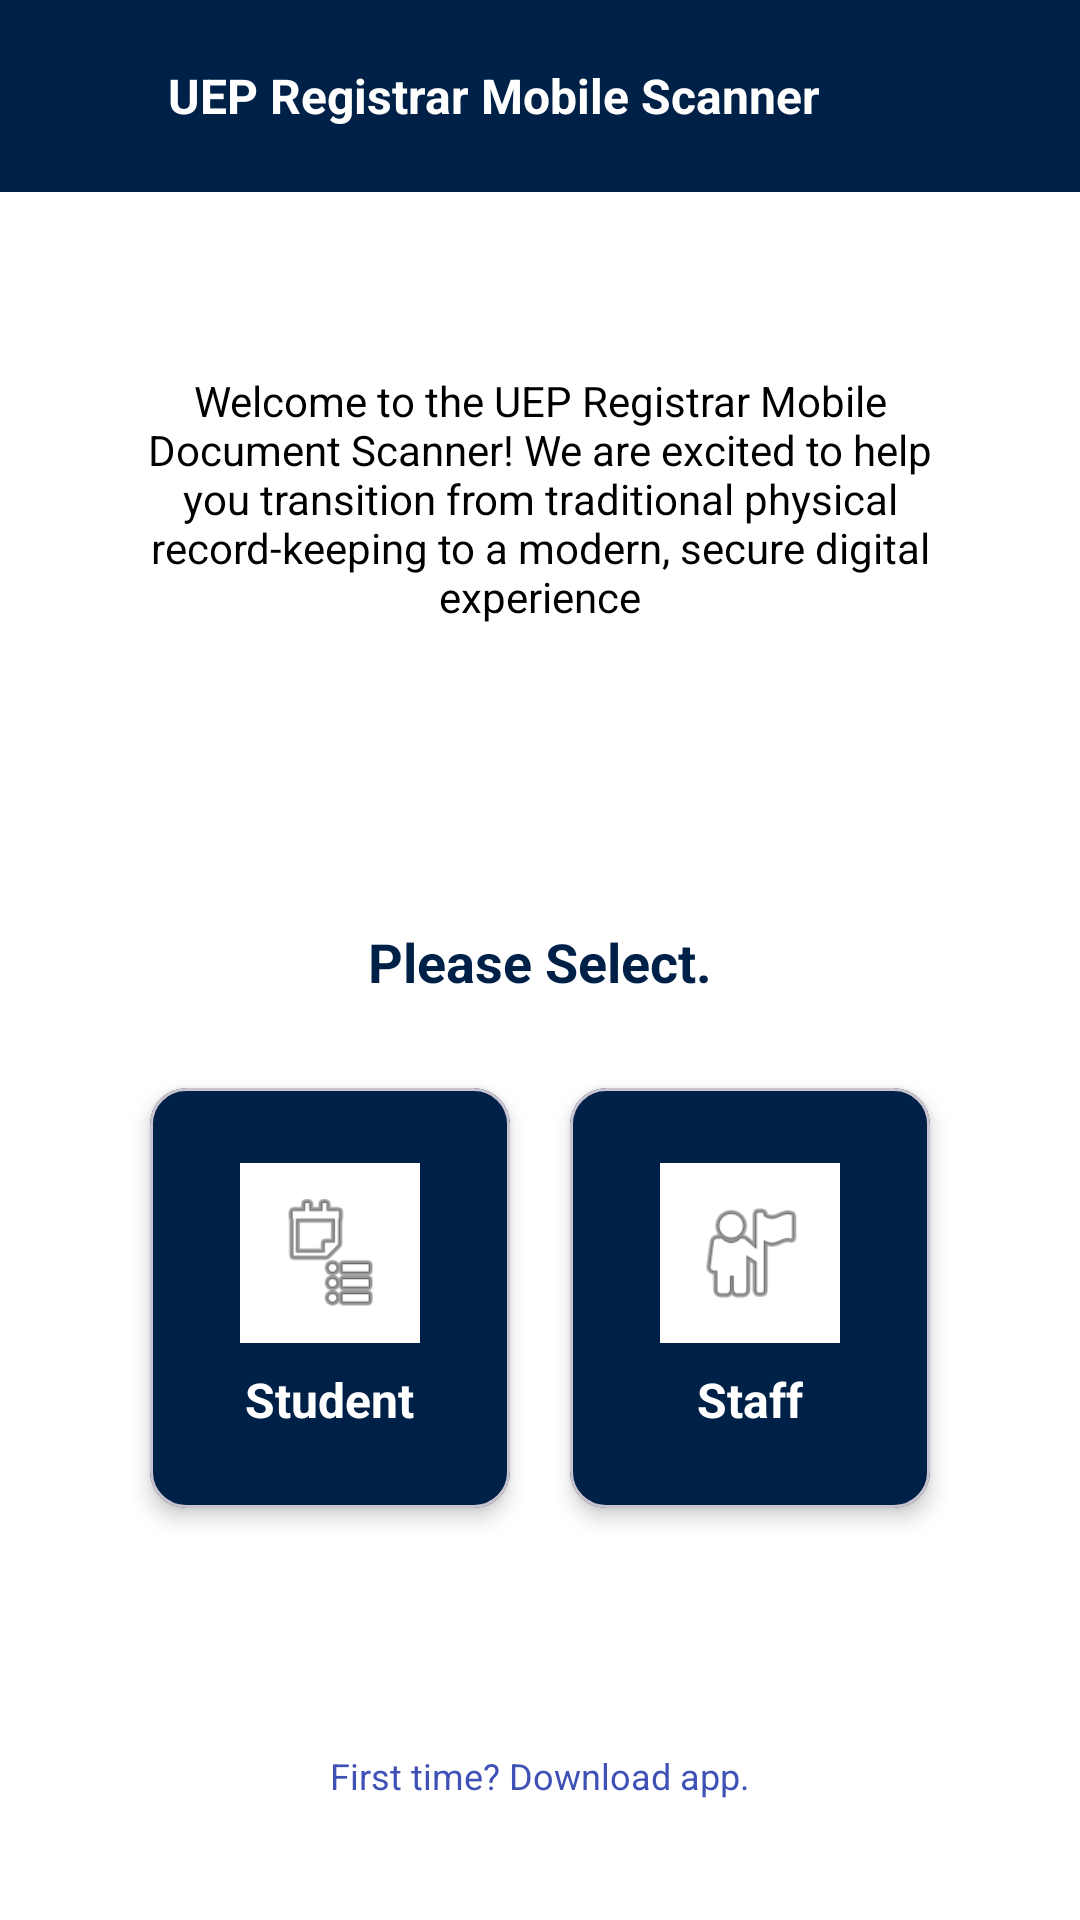

Locate icon controls on the screen. Image size 1080w x 1920h, boxes as (x1, y1, x2, y2).
agenda: (240, 1163, 420, 1343)
